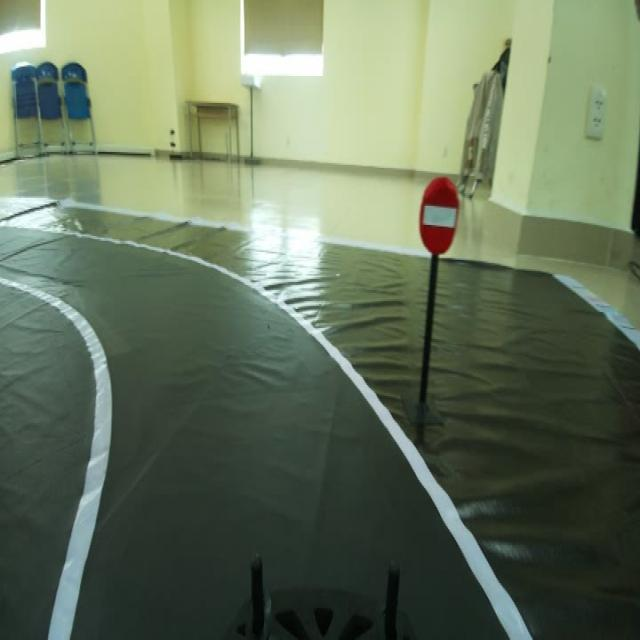no_entry: (416, 168, 462, 263)
